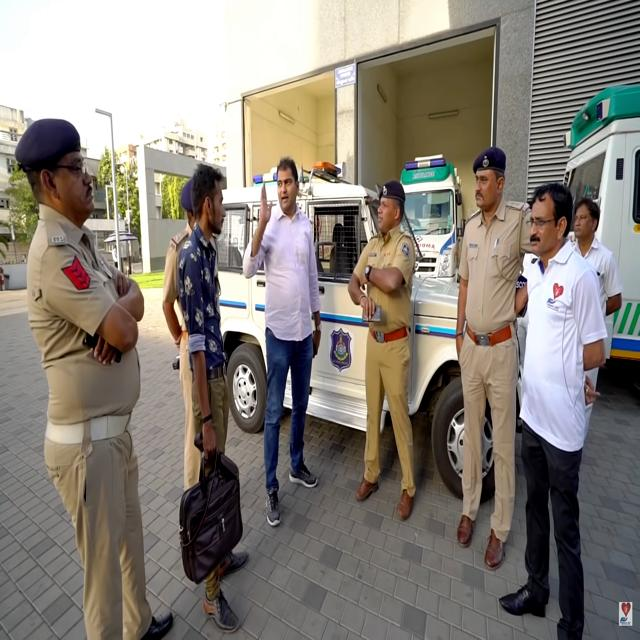emergency-vehicles: (186, 148, 590, 527), (545, 70, 640, 395), (382, 144, 468, 280)
